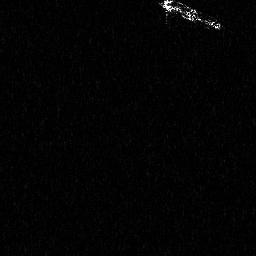ship: (155, 1, 223, 32)
